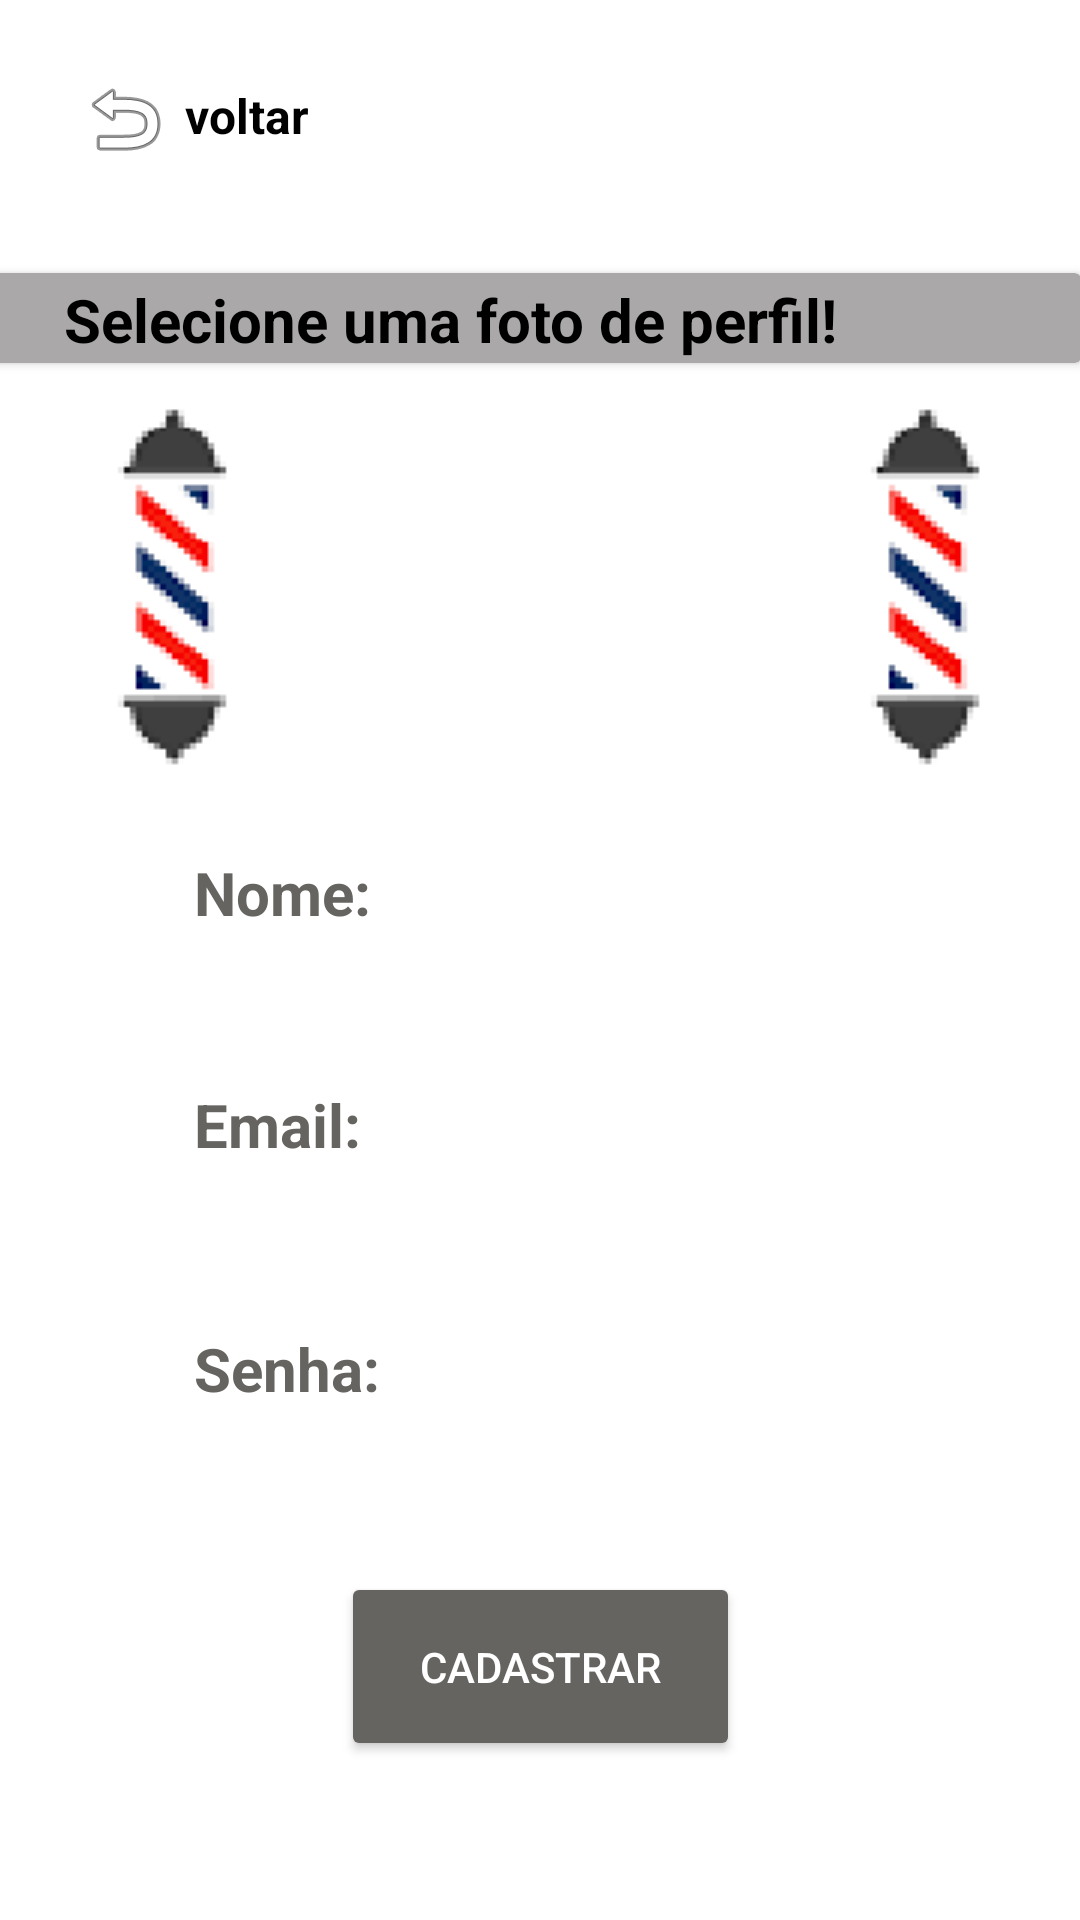

Screen size 1080 x 1920. Icon name, then its center in pixels as [x,y]:
barbearia: [175,587], [928,587]
